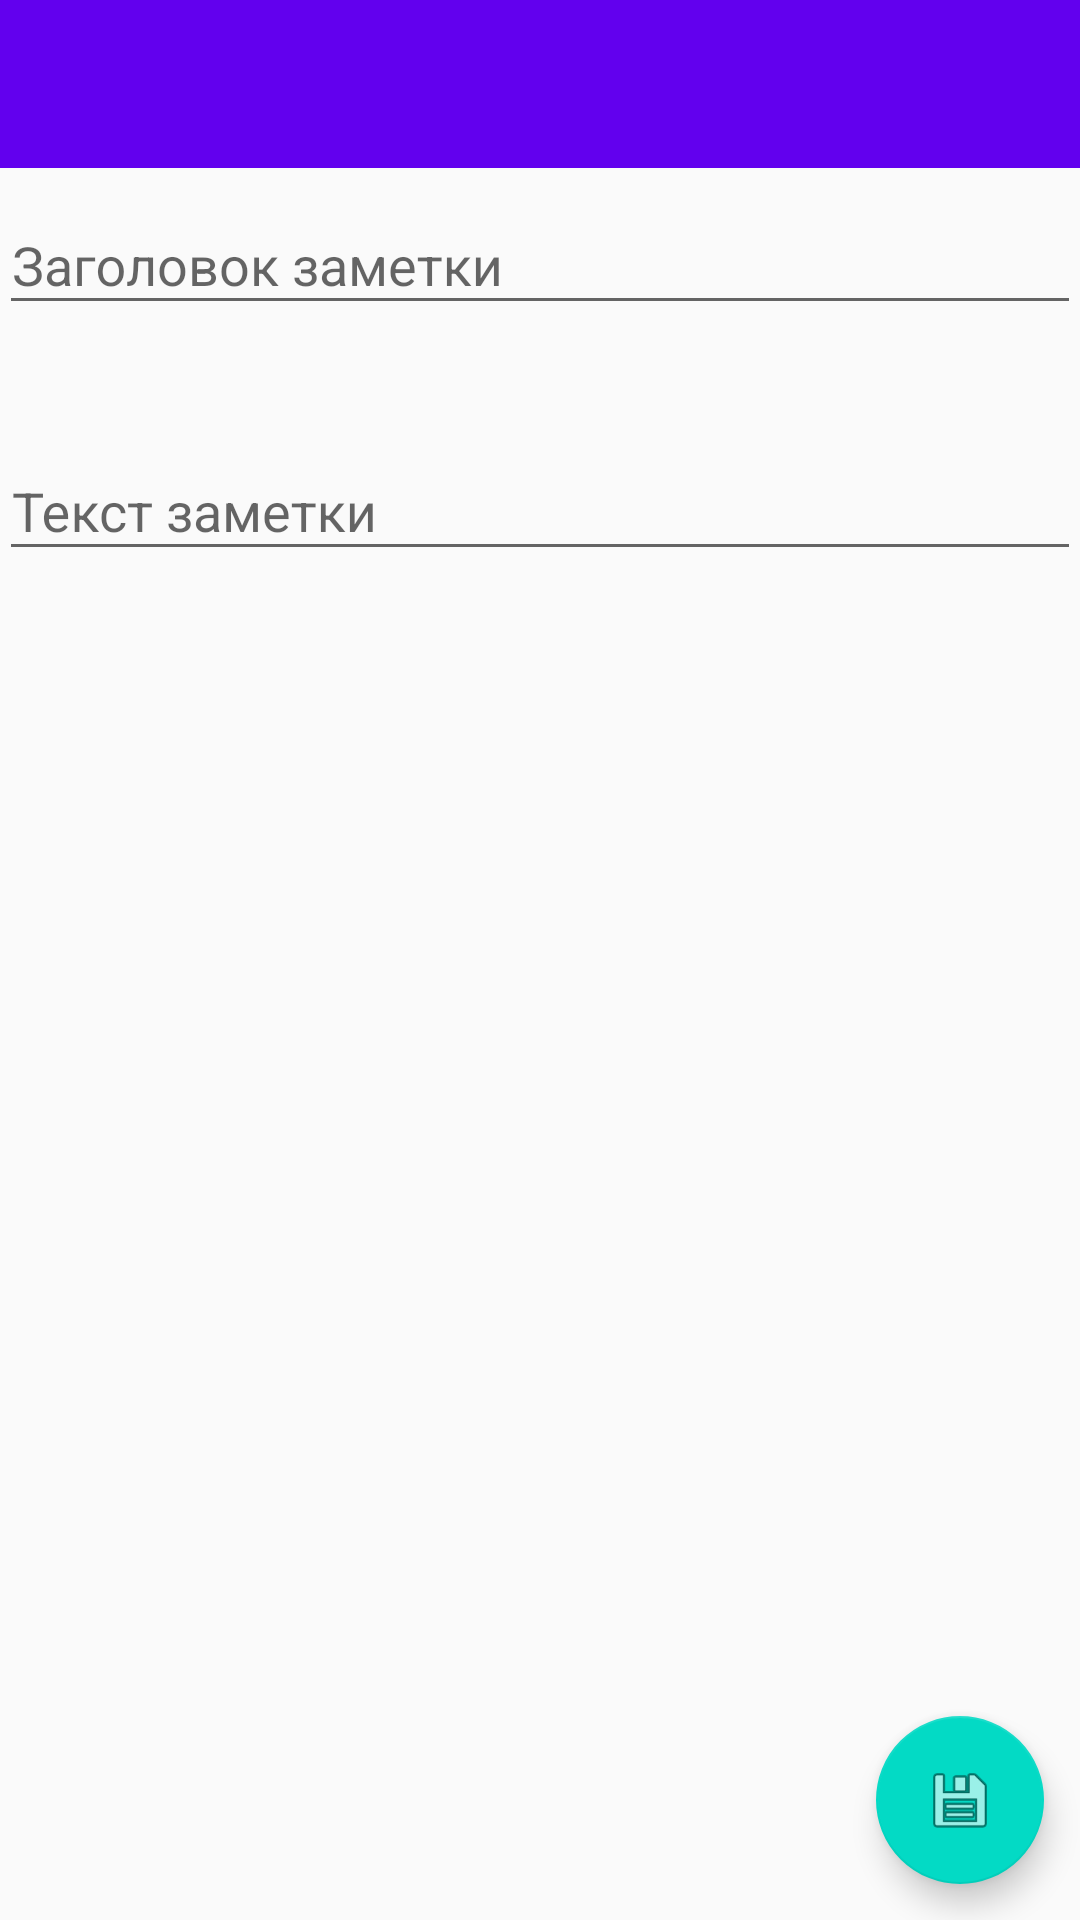

Screen size 1080x1920. Icon name, then its box in pixels as box=[x1, y1, x2, y2]:
save: box=[876, 1716, 1044, 1884]
